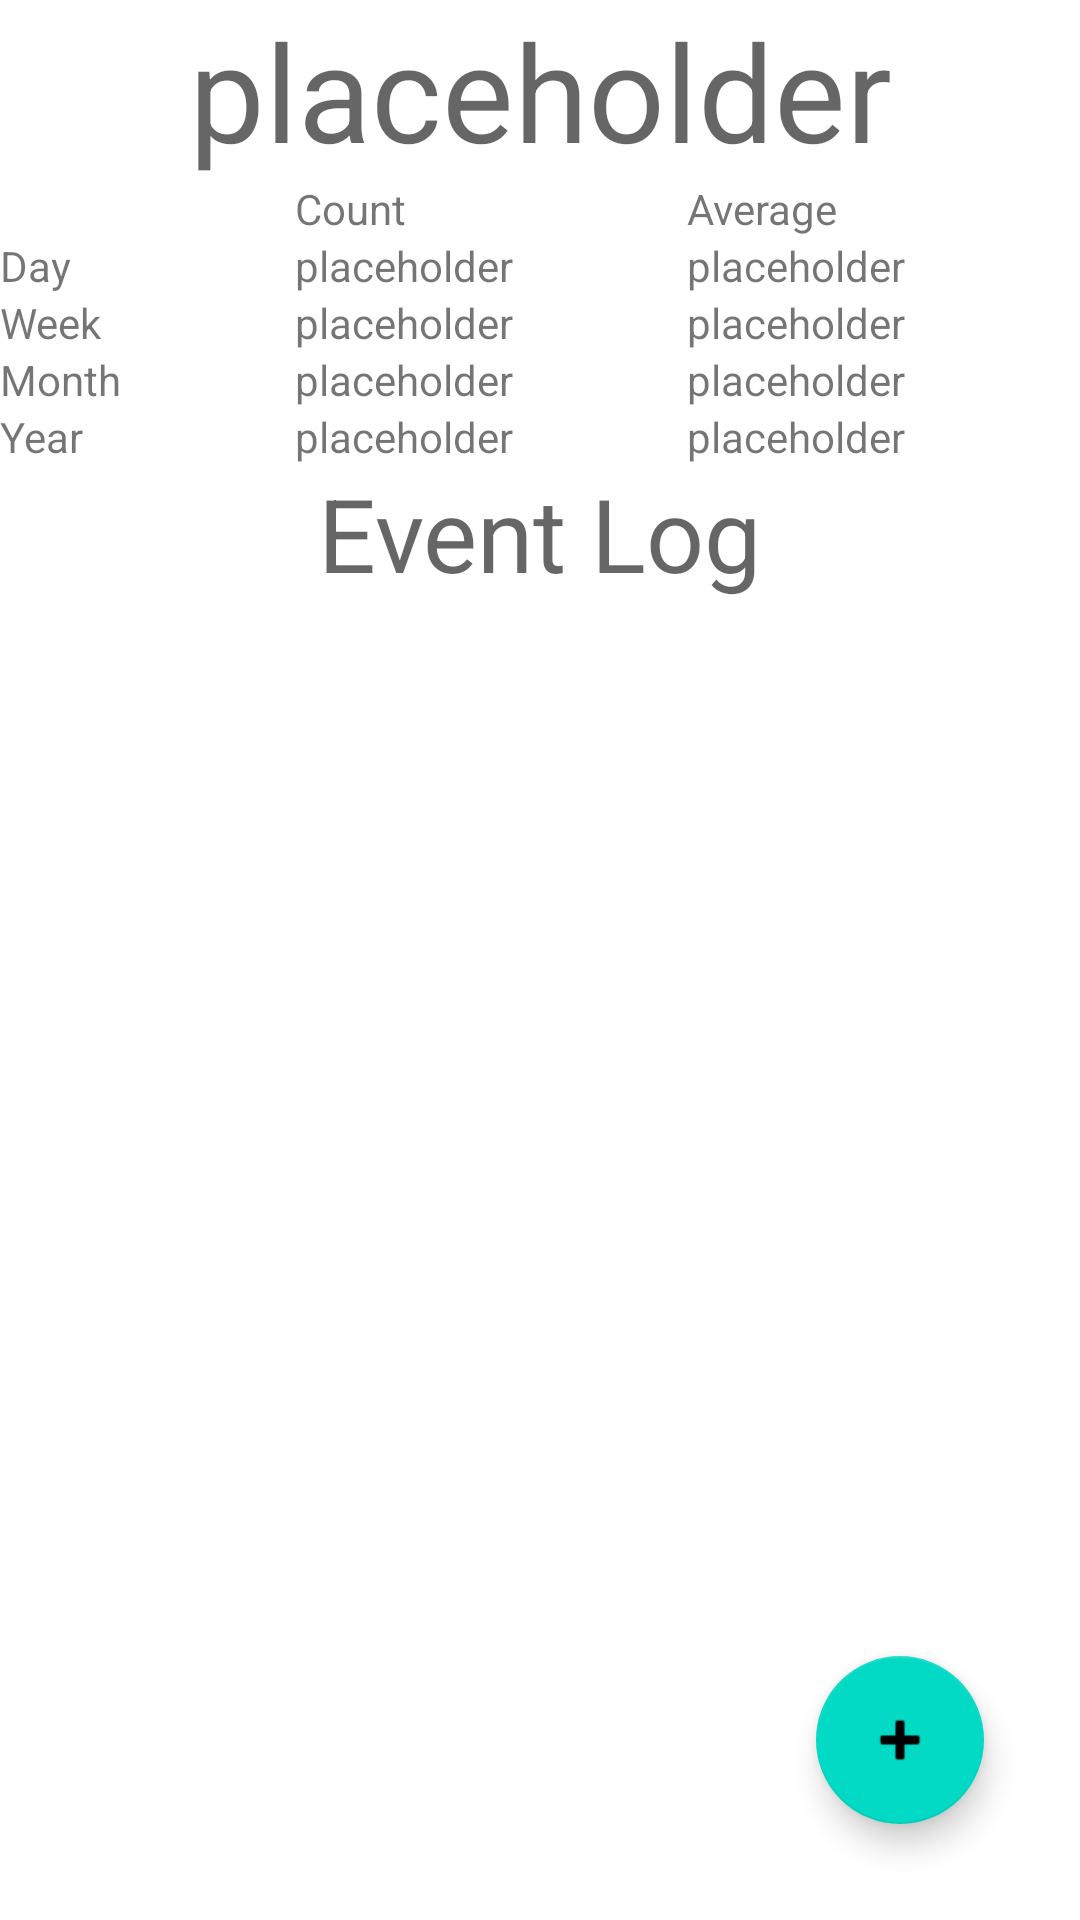

Icons on this 1080 × 1920 Android screen, each with its box as (x1, y1, x2, y2):
Add Event of this Type: (816, 1656, 984, 1824)
